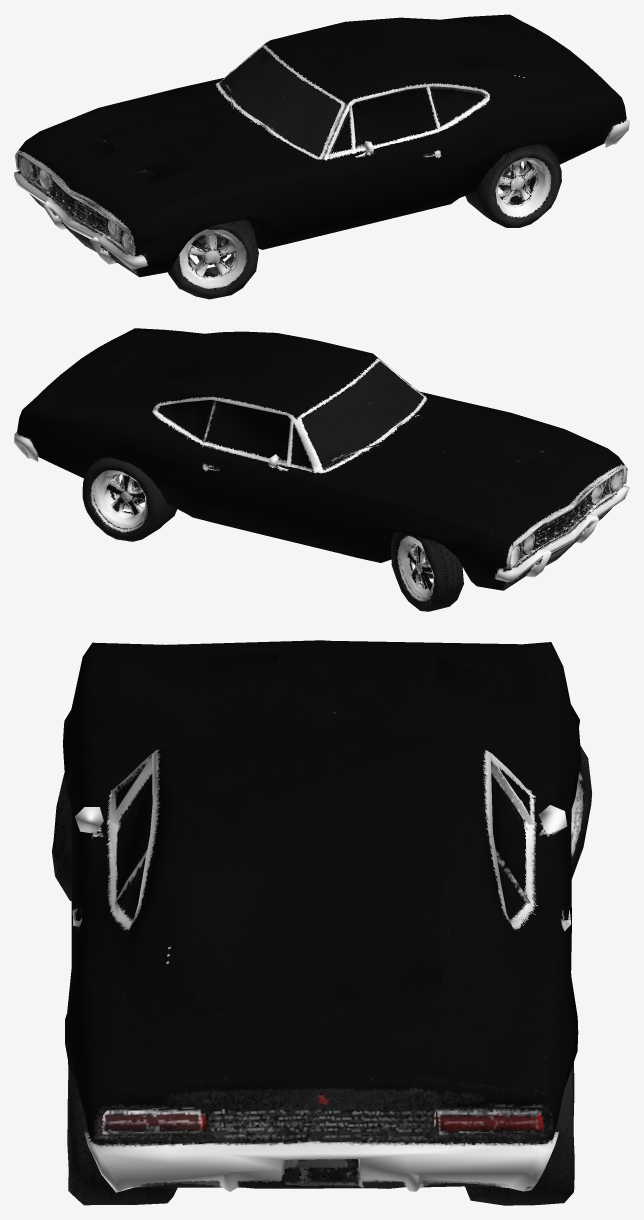
Rendered from muscle.glb.
The picture shows the model from 3 angles, top to bottom: view 1: azimuth 30°, elevation 25°; view 2: azimuth 150°, elevation 25°; view 3: azimuth 270°, elevation 25°; orthographic projection. The views are drawn at different scales.
Visible parts, largest first — view 1: geometry_0; view 2: geometry_0; view 3: geometry_0.
Part boxes in pixels (left/top/right/bottom): geometry_0: left=14, top=14, right=629, bottom=299; geometry_0: left=14, top=328, right=629, bottom=611; geometry_0: left=52, top=640, right=592, bottom=1205.
Size of the model in its own units: 1.9 by 0.5617 by 0.8773.
1 material, 1 textured.
